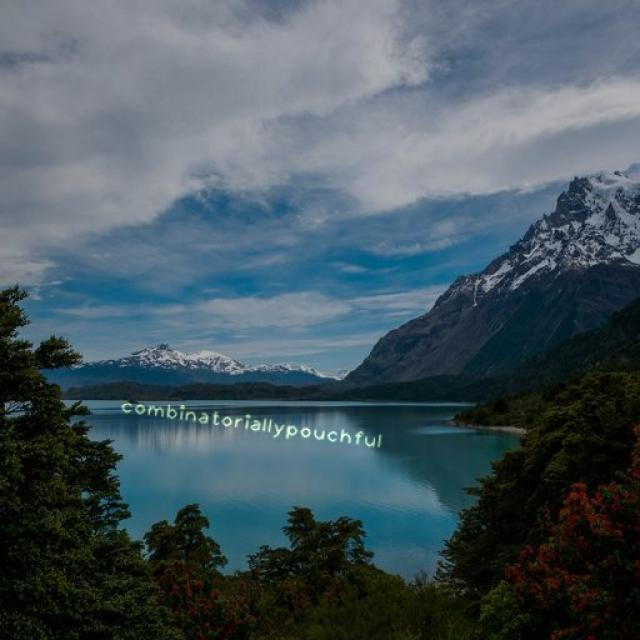watermark: (113, 396, 394, 451)
